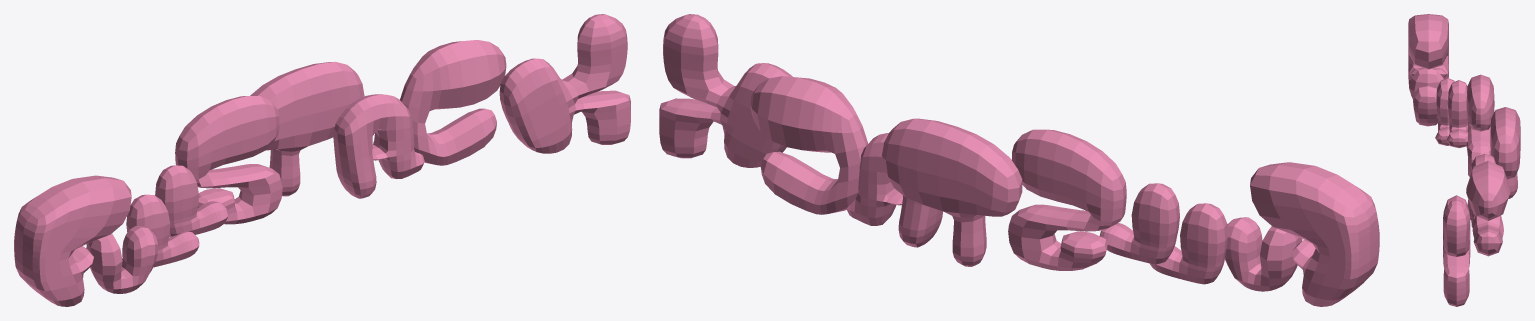
File: wewe.glb
The picture shows the model from 3 angles, left to right: view 1: azimuth 30°, elevation 25°; view 2: azimuth 150°, elevation 25°; view 3: azimuth 270°, elevation 25°; orthographic projection. The views are drawn at different scales.
Visible parts, largest first — view 1: Cube.008, Cube, Cube.004, Cube.007, Cube.005, Cube.006, Cube.001, Cube.003, Cube.002; view 2: Cube.004, Cube, Cube.005, Cube.007, Cube.008, Cube.006, Cube.003, Cube.001, Cube.002; view 3: Cube.007, Cube.008, Cube, Cube.004, Cube.005, Cube.001, Cube.003, Cube.002, Cube.006.
Boxes of the visible parts, box(x1,y1,x2,y2) form: Cube.008: box(499, 14, 630, 153); Cube: box(14, 175, 131, 306); Cube.004: box(175, 96, 282, 224); Cube.007: box(400, 40, 506, 165); Cube.005: box(250, 62, 364, 196); Cube.006: box(333, 94, 424, 198); Cube.001: box(86, 226, 157, 293); Cube.003: box(155, 165, 228, 236); Cube.002: box(126, 194, 199, 267); Cube.004: box(1008, 129, 1126, 270); Cube: box(1250, 162, 1379, 306); Cube.005: box(882, 118, 1022, 266); Cube.007: box(750, 76, 867, 214); Cube.008: box(659, 14, 792, 167); Cube.006: box(846, 133, 942, 247); Cube.003: box(1099, 183, 1179, 264); Cube.001: box(1225, 217, 1302, 291); Cube.002: box(1149, 203, 1228, 284); Cube.007: box(1466, 160, 1510, 256); Cube.008: box(1443, 195, 1470, 306); Cube: box(1408, 14, 1448, 90); Cube.004: box(1466, 74, 1494, 176); Cube.005: box(1490, 107, 1520, 198); Cube.001: box(1409, 68, 1443, 126); Cube.003: box(1446, 80, 1467, 147); Cube.002: box(1435, 78, 1454, 145); Cube.006: box(1467, 154, 1495, 227).
Size of the model in its own units: 4 by 0.8637 by 0.8185.
